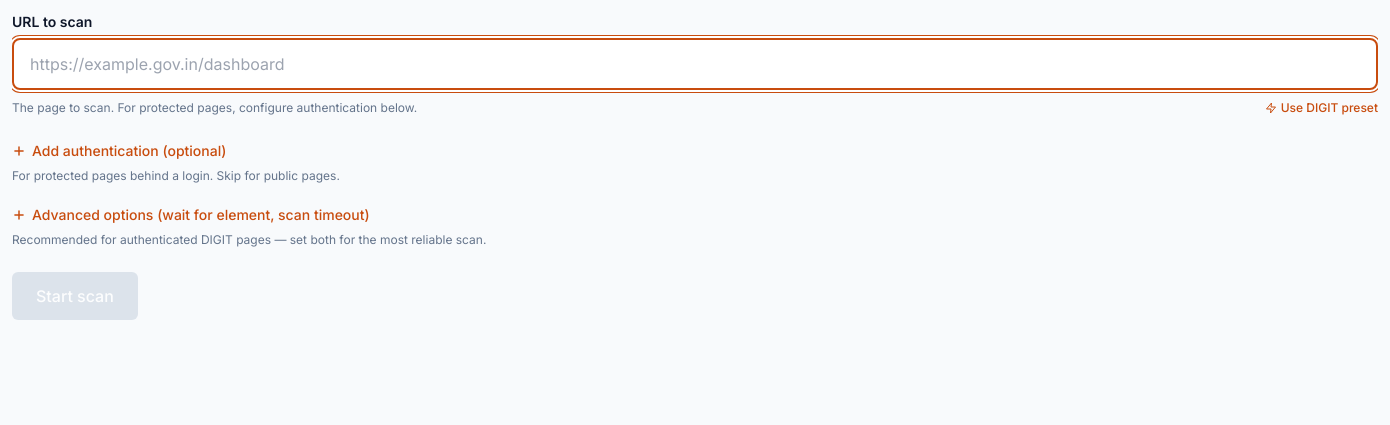
Test: <ScanForm /> › surfaces a network error with recovery hint
Type "https://example.gov.in" into the field labelled "URL to scan" at point(695, 64), box x1=12 y1=38 x2=1378 y2=90
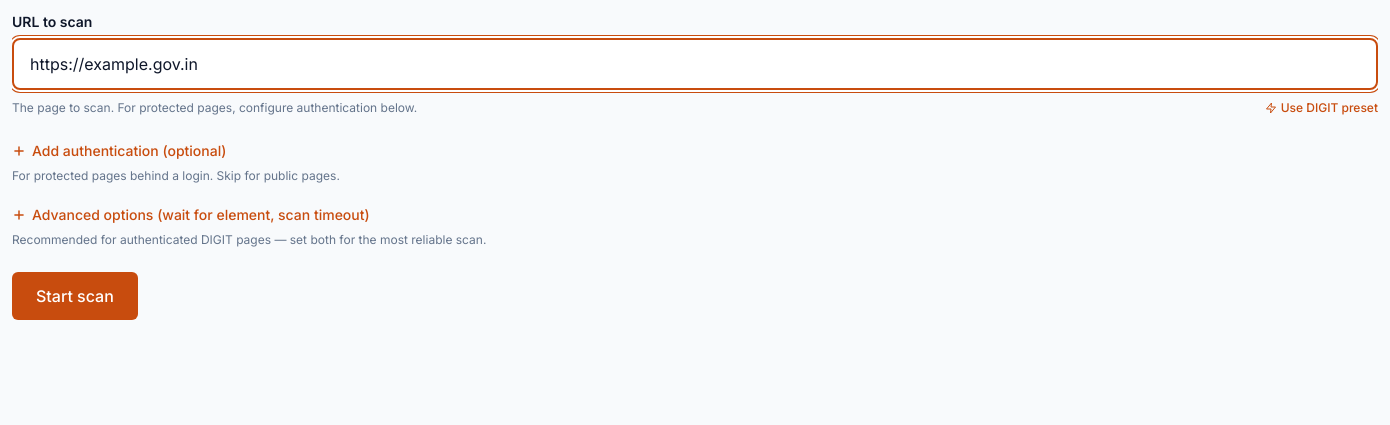
Click the button "Start scan" at point(75, 296), box x1=12 y1=272 x2=138 y2=320
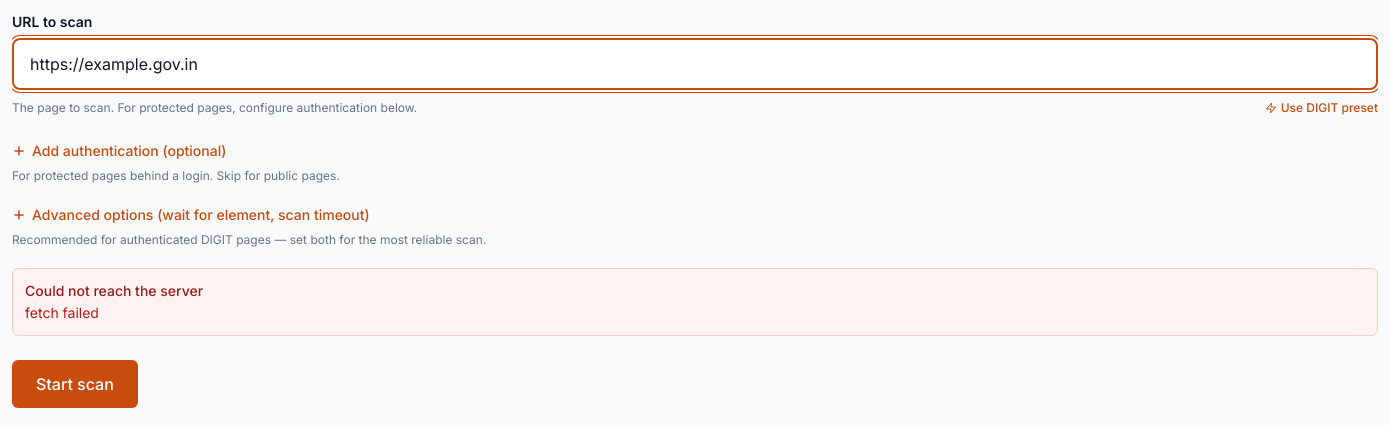
Result: the text "Could not reach the server" is shown at x1=25 y1=282 x2=203 y2=299
